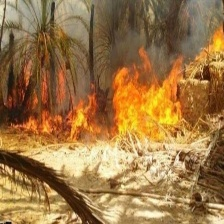fire: (19, 55, 186, 143), (185, 22, 224, 60)
